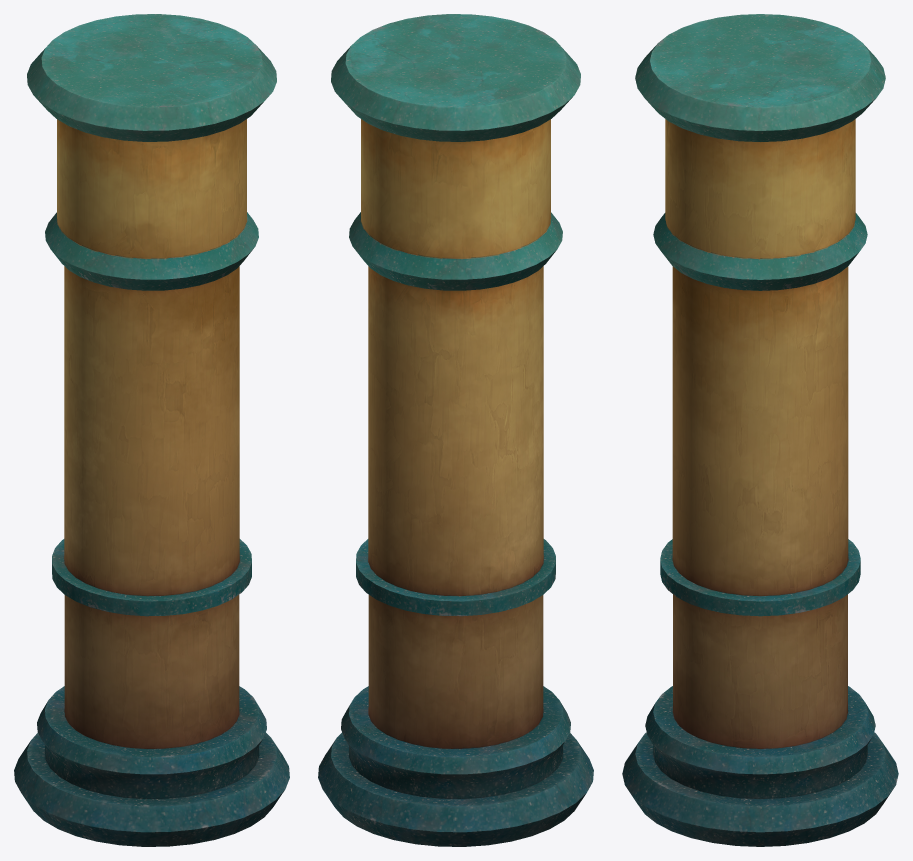
File: SM_Column_B.glb
The picture shows the model from 3 angles, left to right: view 1: azimuth 30°, elevation 25°; view 2: azimuth 150°, elevation 25°; view 3: azimuth 270°, elevation 25°; orthographic projection.
Parts seen in each view (by area): view 1: SM_Column_B_LOD0; view 2: SM_Column_B_LOD0; view 3: SM_Column_B_LOD0.
Part boxes in pixels (x1,y1,x2,y2): SM_Column_B_LOD0: [14, 14, 289, 846]; SM_Column_B_LOD0: [318, 14, 593, 846]; SM_Column_B_LOD0: [622, 14, 898, 846].
Size of the model in its own units: 0.6963 by 2.04 by 0.6963.
Materials: 1 (1 with a texture image).
